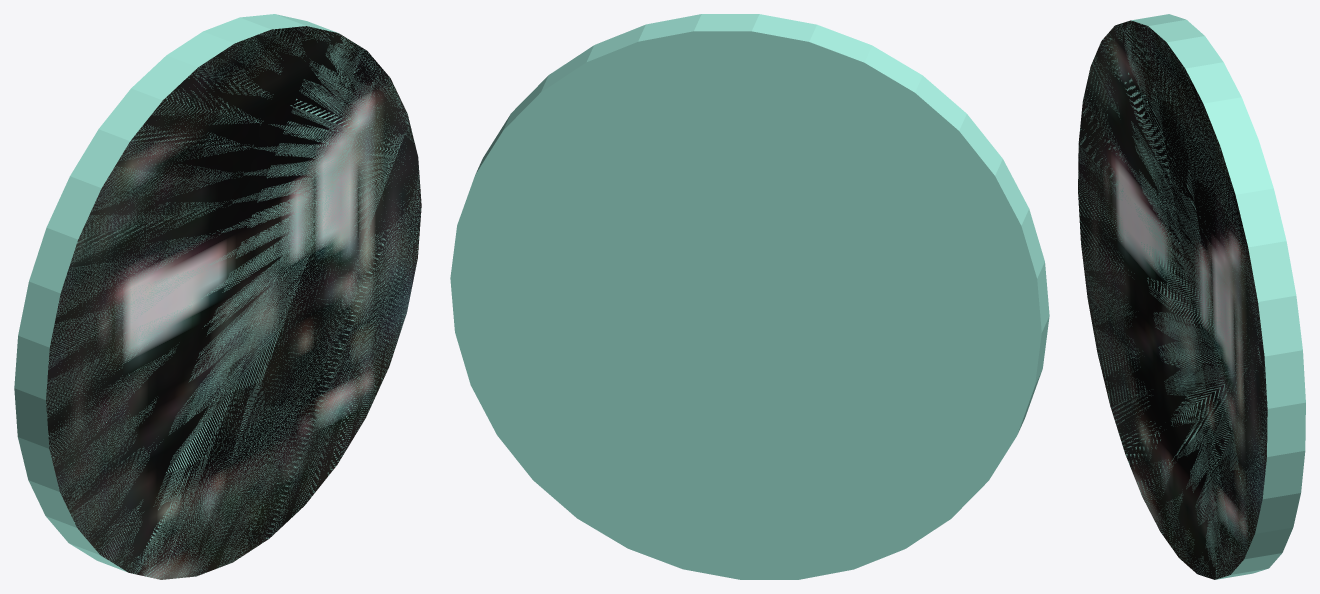
The model's file is SampleCar_01_LB_L.fbx.
3 views of the same model, side by side, from view 1: azimuth 30°, elevation 25°; view 2: azimuth 150°, elevation 25°; view 3: azimuth 270°, elevation 25° (orthographic). The views are drawn at different scales.
Parts seen in each view (by area): view 1: lamps_001_LOD0, UTM_lamps_001; view 2: UTM_lamps_001; view 3: lamps_001_LOD0, UTM_lamps_001.
Part boxes in pixels (x1,y1,x2,y2): lamps_001_LOD0: (46,26,421,579); UTM_lamps_001: (14,14,421,579); UTM_lamps_001: (450,14,1049,579); lamps_001_LOD0: (1078,20,1267,579); UTM_lamps_001: (1078,14,1305,579).
Bounding box in the file's own units: 11.86 × 12.28 × 4.94.
